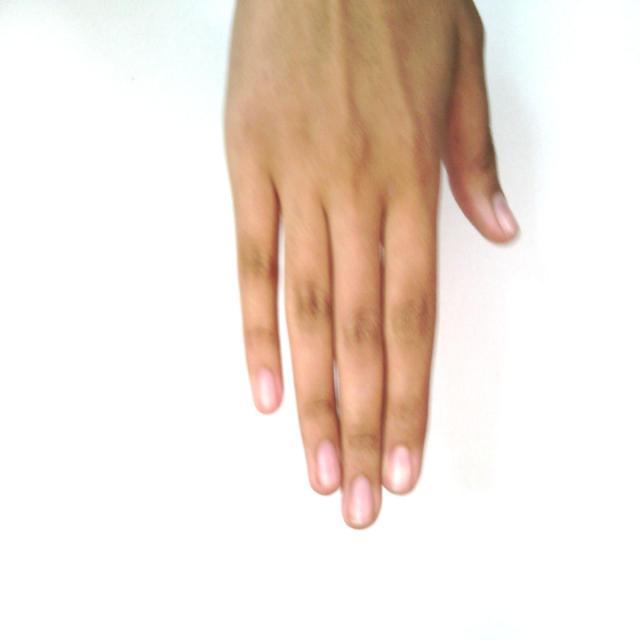Fingernail: (349, 476, 373, 525), (389, 446, 413, 492), (317, 442, 340, 490), (493, 192, 519, 234), (258, 368, 277, 409)
